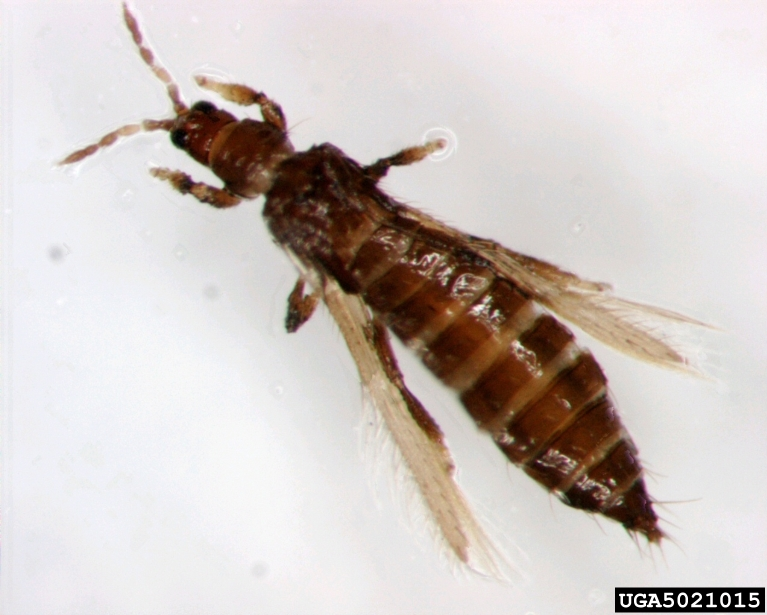Thrips: (97, 22, 715, 571)
